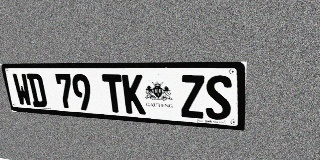7: (54, 74, 76, 110)
9: (71, 74, 94, 111)
D: (26, 73, 48, 108)
K: (122, 74, 146, 115)
S: (205, 75, 232, 121)
T: (102, 74, 125, 113)
W: (12, 73, 33, 107)
Z: (180, 75, 205, 119)
